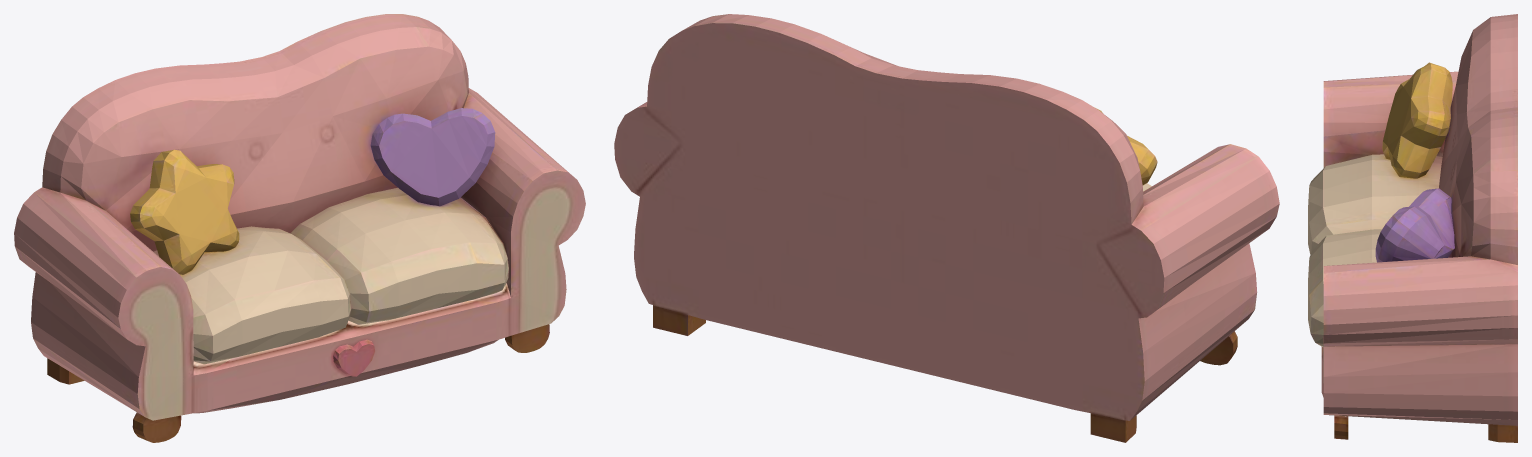
File: pinksofa.glb
3 views of the same model, side by side, from view 1: azimuth 30°, elevation 25°; view 2: azimuth 150°, elevation 25°; view 3: azimuth 270°, elevation 25° (orthographic). The views are drawn at different scales.
Visible parts, largest first — view 1: tripo_95fac78d_d232_4e2c_8793_effd8eae62b8; view 2: tripo_95fac78d_d232_4e2c_8793_effd8eae62b8; view 3: tripo_95fac78d_d232_4e2c_8793_effd8eae62b8.
Boxes of the visible parts, x1=… form: tripo_95fac78d_d232_4e2c_8793_effd8eae62b8: x1=14, y1=14, x2=585, y2=442; tripo_95fac78d_d232_4e2c_8793_effd8eae62b8: x1=614, y1=14, x2=1279, y2=442; tripo_95fac78d_d232_4e2c_8793_effd8eae62b8: x1=1308, y1=14, x2=1517, y2=442.
Bounding box in the file's own units: 0.9995 × 0.5688 × 0.4028.
1 material, 1 textured.
